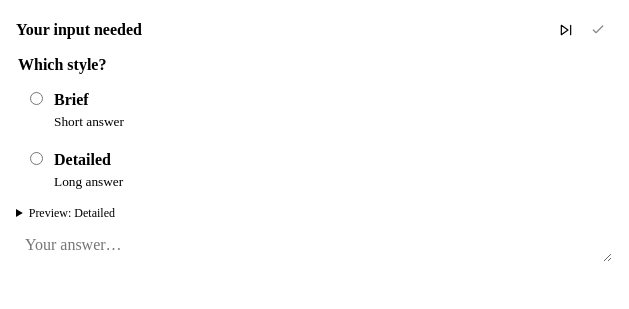
it: failed submission keeps the answers available for retry
This screenshot has width=629, height=309.
Click the radio button labelled "Brief Short answer" at (36, 99), box [30, 92, 43, 105]
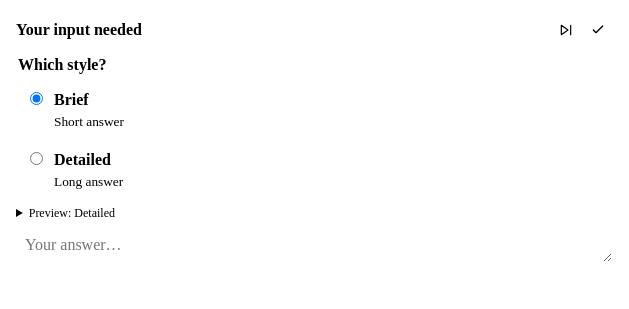
Click the button named "Submit answers" at (598, 30), box [584, 16, 612, 44]
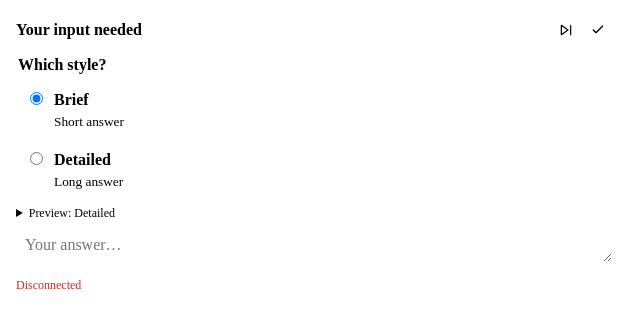
Check: the radio button labelled "Brief Short answer" is checked, box [30, 92, 43, 105]
Check: the message reads "Disconnected", box [16, 278, 81, 292]
